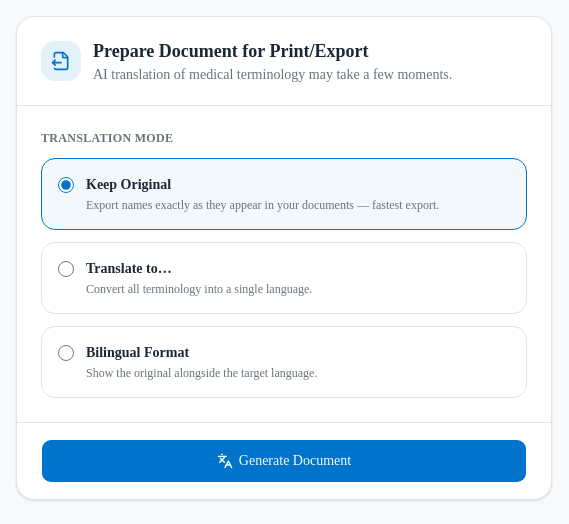
Test: PrintSetup › shows language dropdown when bilingual mode is selected
The width and height of the screenshot is (569, 524).
What coordinates should you click on to do the following:
click the 3rd radio button
I would click on:
 (66, 353)
Its box is [58,345,74,361].
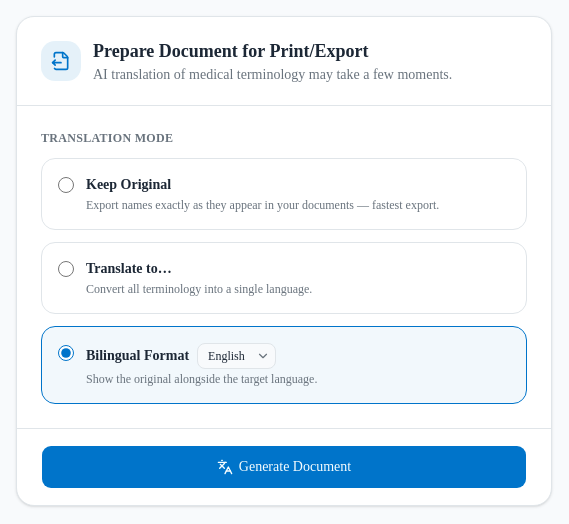
Expected: the dropdown is shown, [197,343,276,369]
